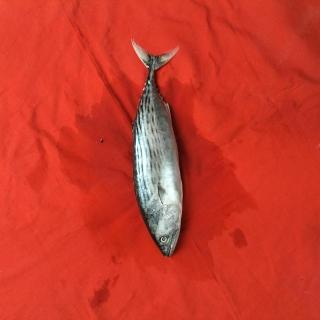Ikan: (124, 38, 196, 268)
